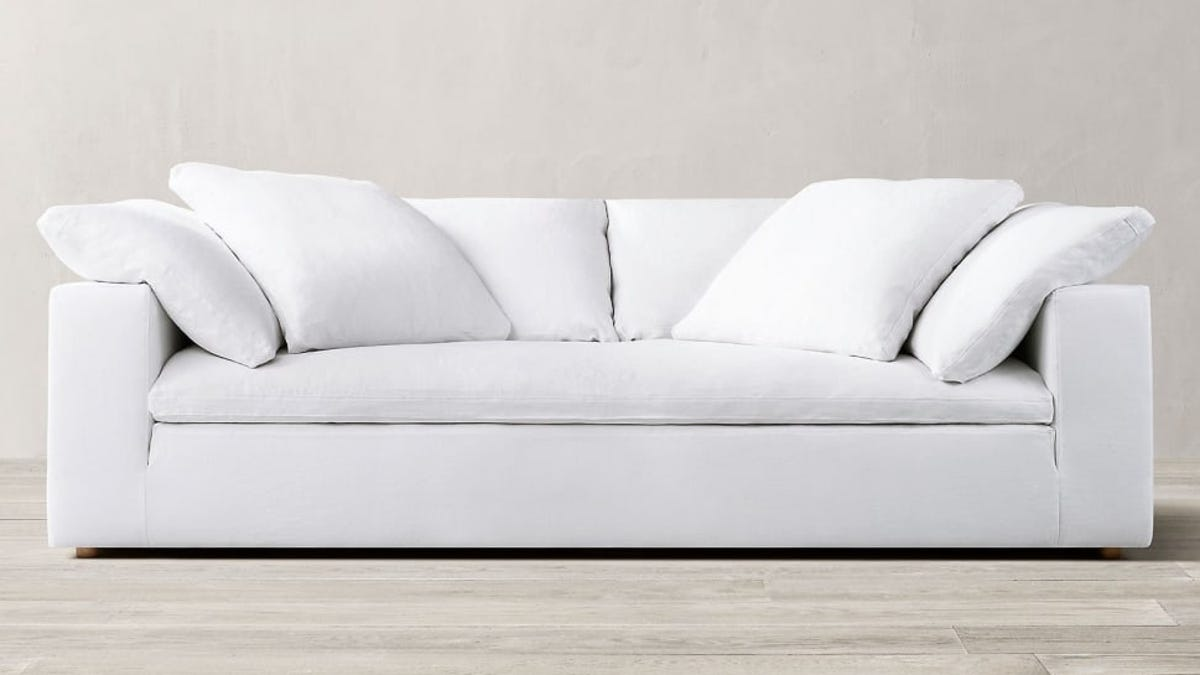bantal: (929, 186, 1155, 381), (263, 173, 511, 345), (42, 198, 279, 358), (704, 175, 905, 352)
sova: (44, 166, 1156, 547)
